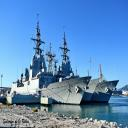Fragata: (3, 13, 93, 109)
